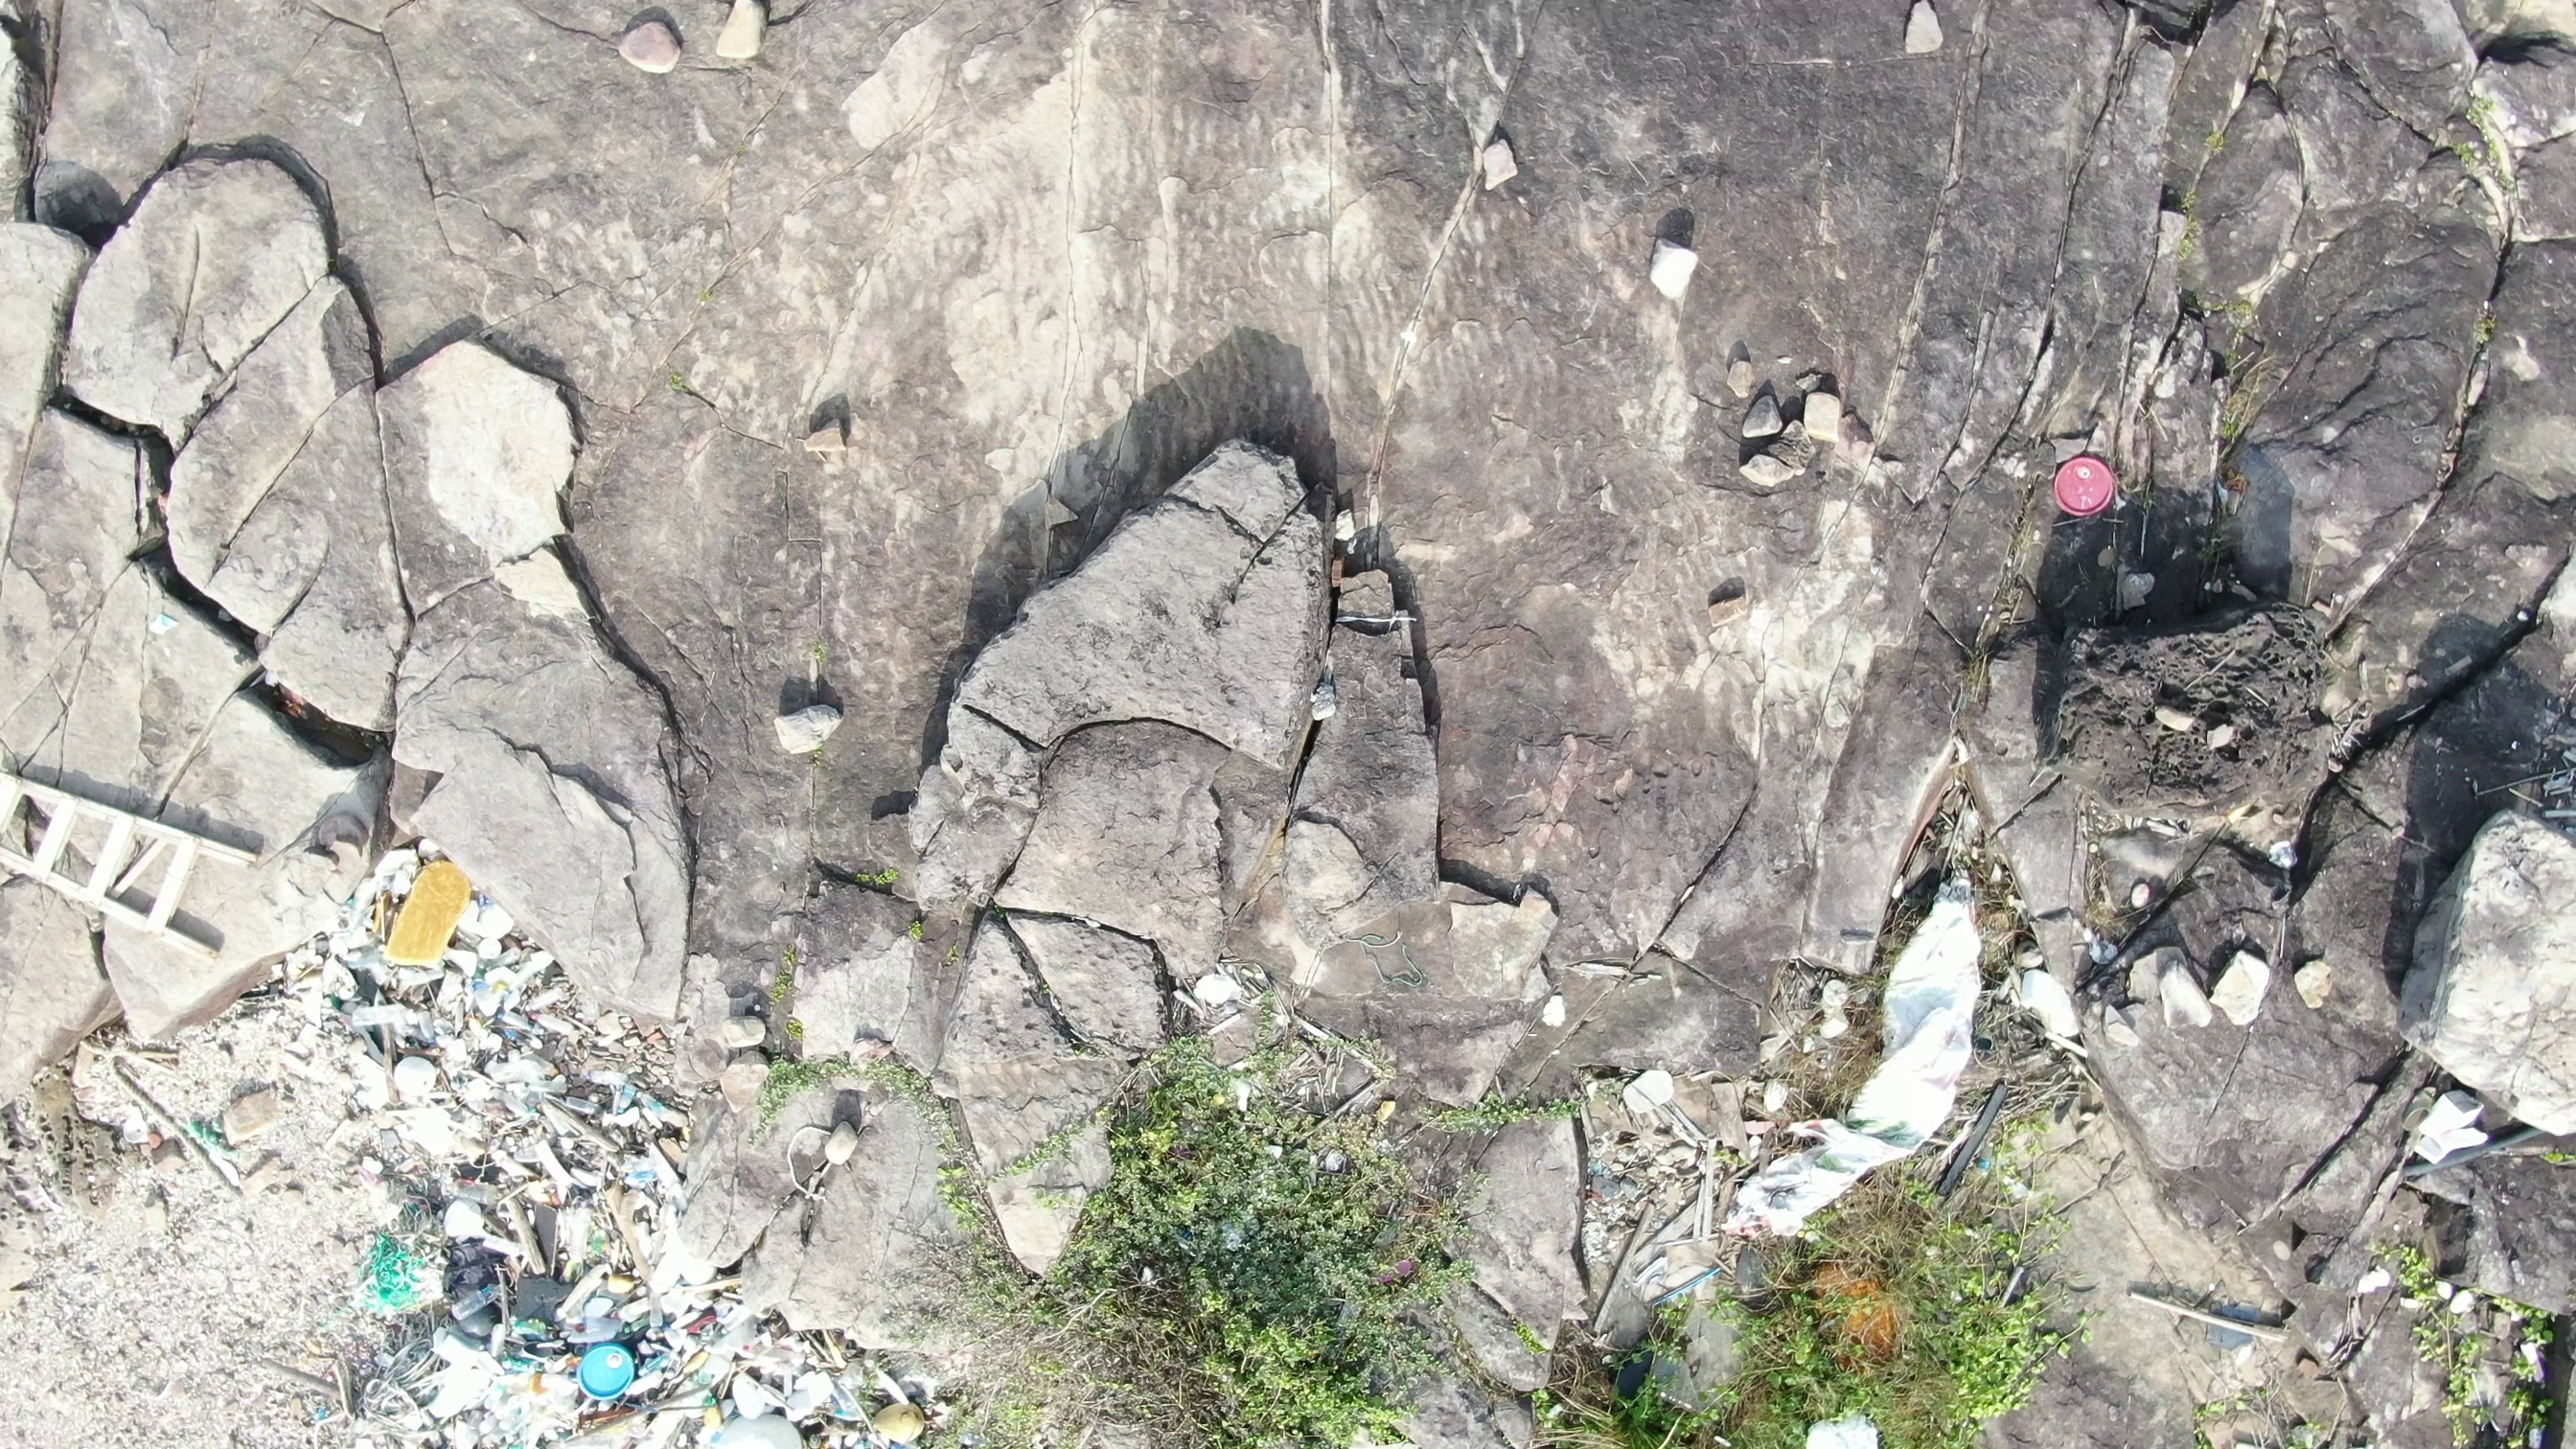garbage: (1711, 860, 2036, 1261), (359, 1049, 676, 1421), (2, 775, 288, 959), (377, 849, 478, 991), (2040, 446, 2143, 525)
